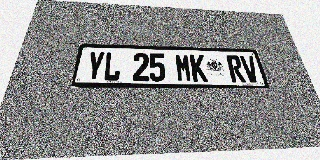2: (133, 53, 149, 81)
5: (149, 53, 166, 81)
K: (189, 54, 208, 82)
L: (103, 52, 121, 81)
M: (175, 54, 192, 82)
R: (226, 55, 246, 82)
V: (240, 56, 260, 82)
Y: (84, 51, 105, 81)
